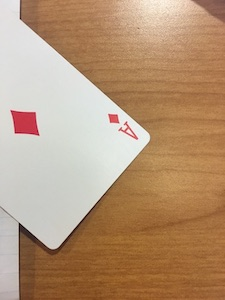AceOfDiamonds: (1, 10, 152, 253)
